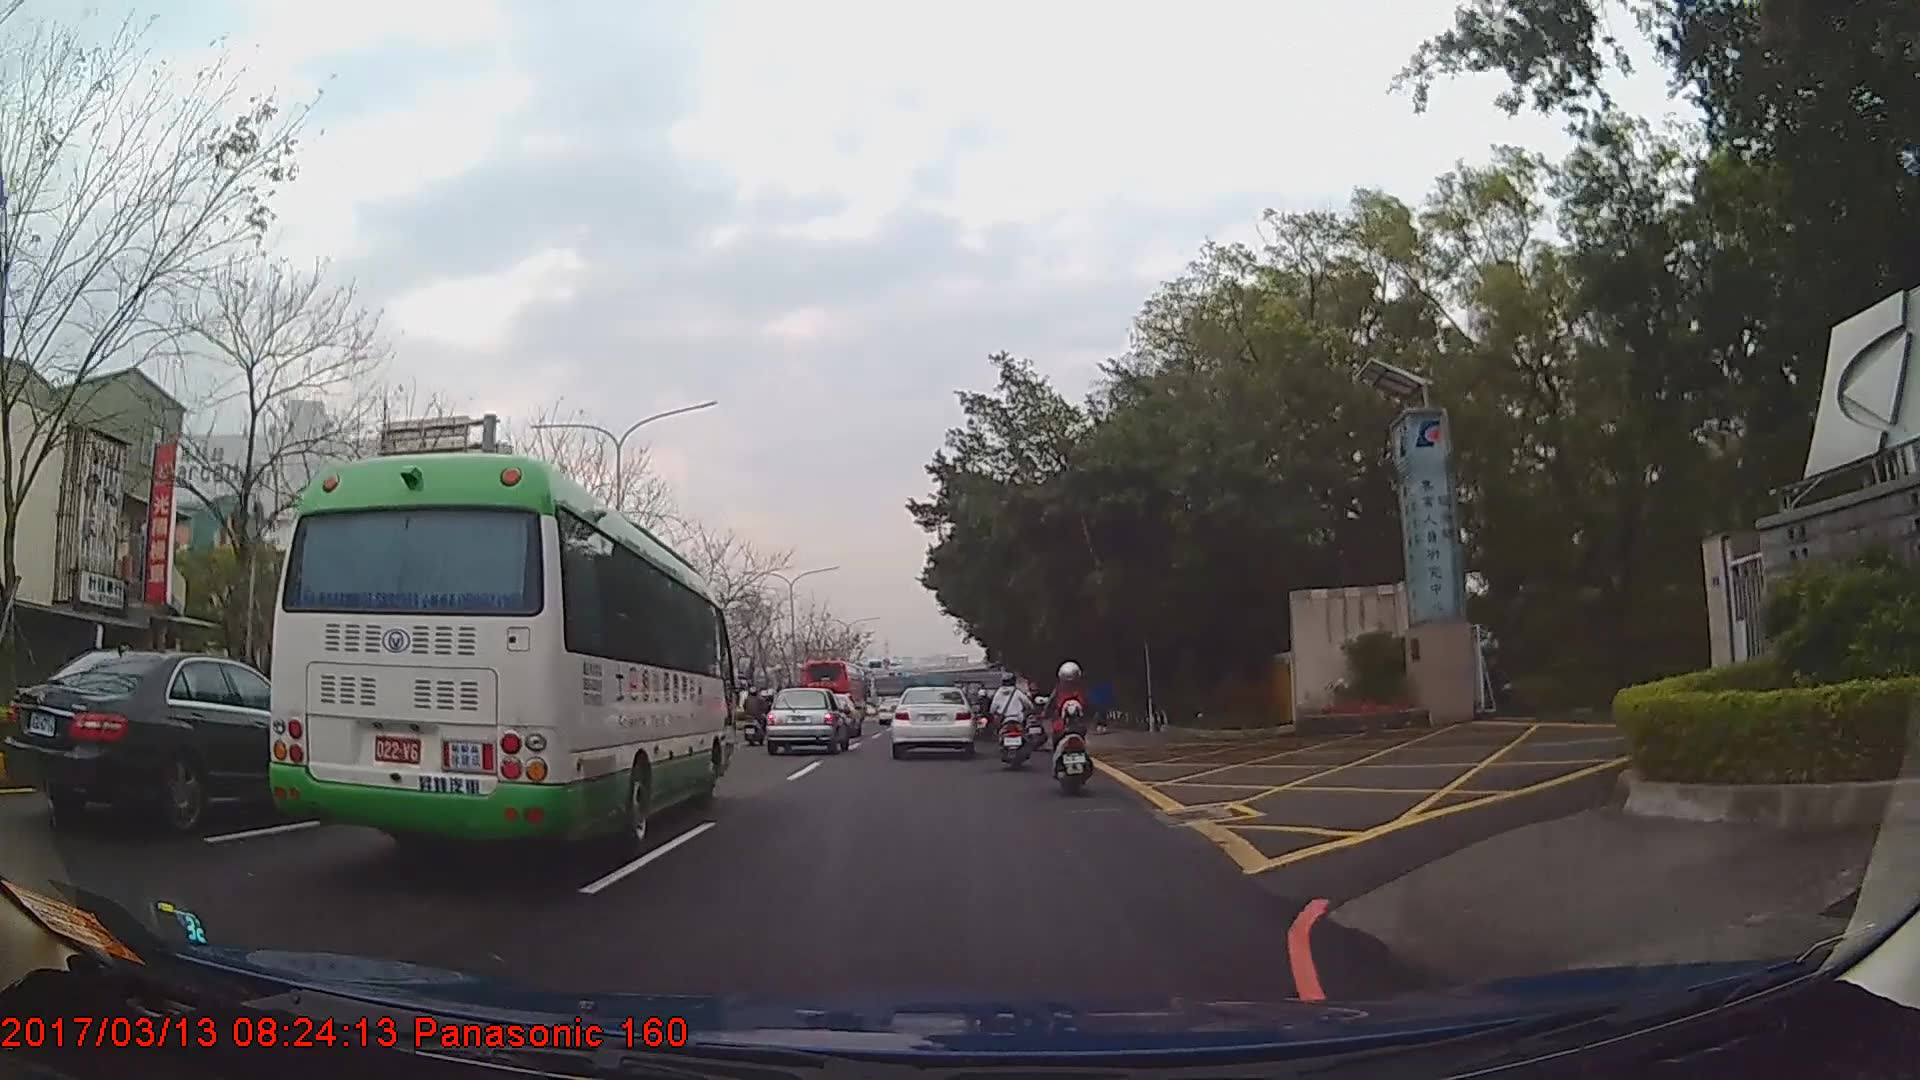pedestrian: (1088, 676, 1112, 737)
rider: (1047, 665, 1093, 803), (989, 677, 1034, 774), (1023, 685, 1046, 752), (744, 685, 768, 737)
vehicle: (262, 452, 732, 858), (9, 649, 350, 836), (888, 684, 975, 759), (762, 686, 850, 756), (799, 660, 866, 726)
